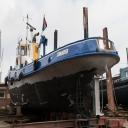tugboat: (5, 23, 122, 110)
